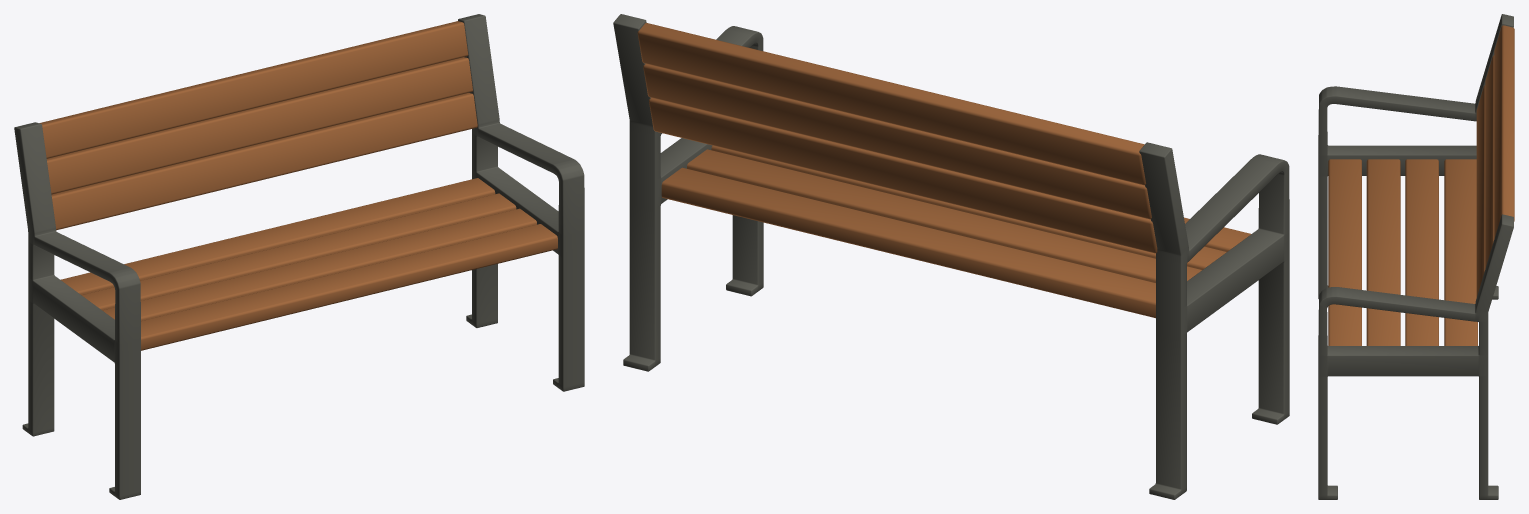
The model's file is Chair.fbx.
3 views of the same model, side by side, from view 1: azimuth 30°, elevation 25°; view 2: azimuth 150°, elevation 25°; view 3: azimuth 270°, elevation 25° (orthographic). The views are drawn at different scales.
Parts seen in each view (by area): view 1: Cube.001; view 2: Cube.001; view 3: Cube.001.
Part boxes in pixels (x1,y1,x2,y2): Cube.001: [14, 14, 584, 499]; Cube.001: [613, 14, 1289, 499]; Cube.001: [1318, 14, 1514, 499].
Bounding box in the file's own units: 379 × 232 × 149.
